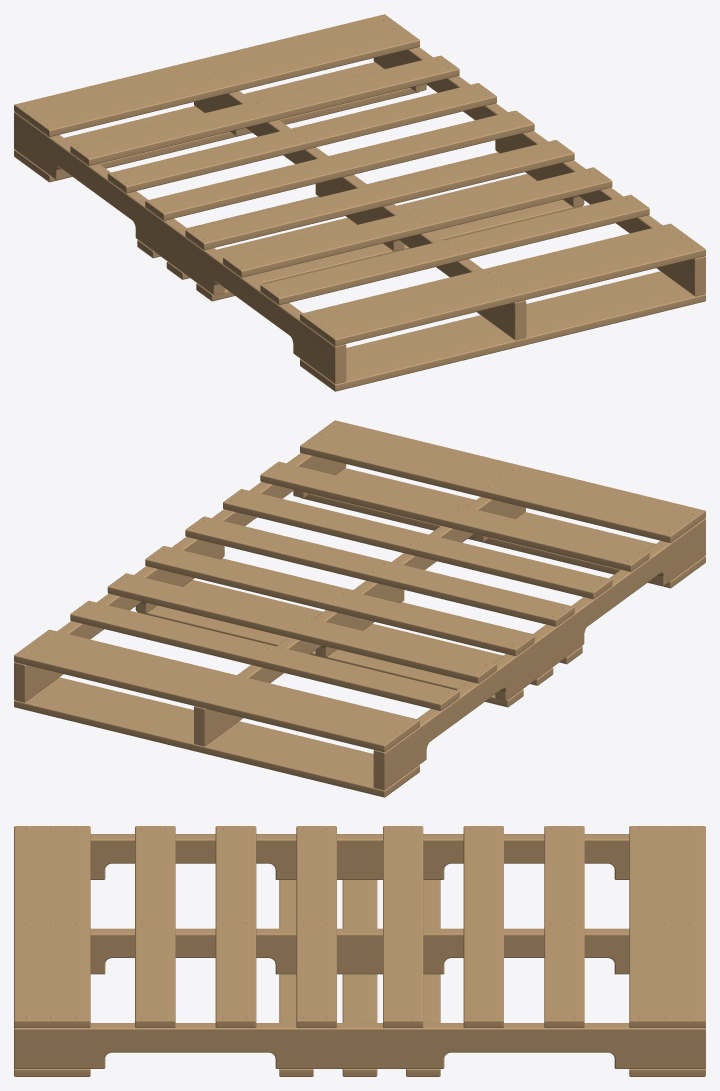
Rendered from pallet_collar_wood_a06.glb.
The picture shows the model from 3 angles, top to bottom: view 1: azimuth 30°, elevation 25°; view 2: azimuth 150°, elevation 25°; view 3: azimuth 270°, elevation 25°; orthographic projection. The views are drawn at different scales.
Size of the model in its own units: 0.8 by 0.1104 by 1.2.
